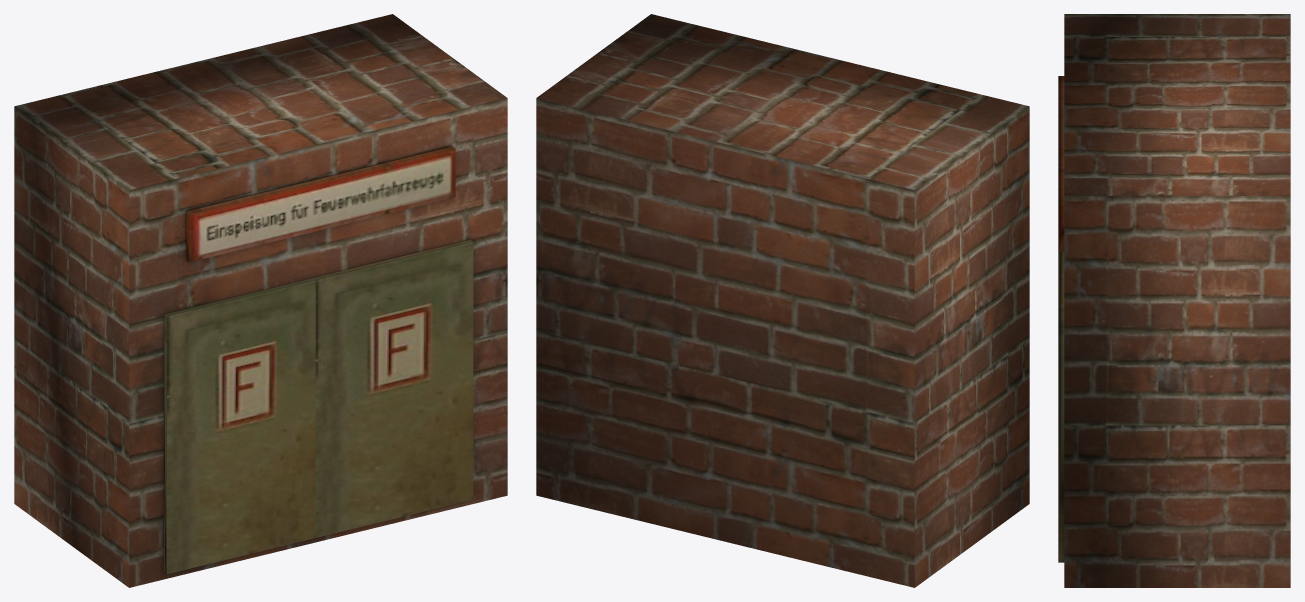
File: fire_hydrant.fbx
The picture shows the model from 3 angles, left to right: view 1: azimuth 30°, elevation 25°; view 2: azimuth 150°, elevation 25°; view 3: azimuth 270°, elevation 25°; orthographic projection.
Visible parts, largest first — view 1: fire_hydrant; view 2: fire_hydrant; view 3: fire_hydrant.
Part boxes in pixels (left/top/right/bottom): fire_hydrant: left=14, top=14, right=507, bottom=587; fire_hydrant: left=536, top=14, right=1029, bottom=587; fire_hydrant: left=1058, top=14, right=1290, bottom=587.
Bounding box in the file's own units: 160 × 161 × 86.33.
